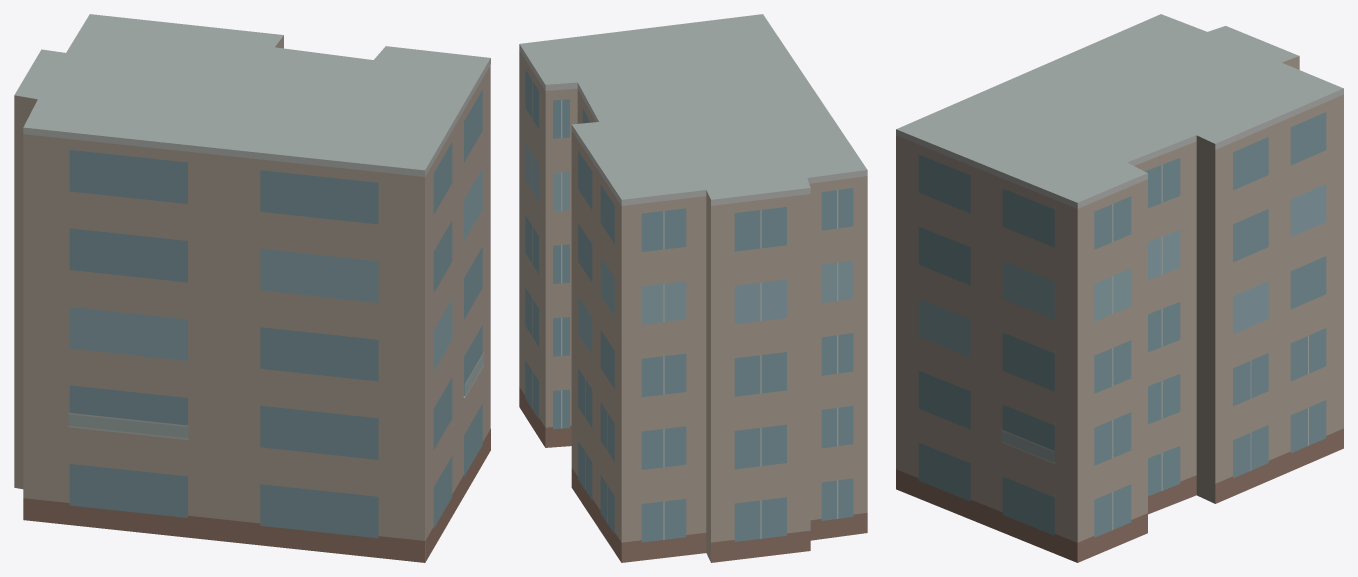
Rendered from survey-upis-32884997.glb.
3 renders of one model, left to right at view 1: azimuth 30°, elevation 25°; view 2: azimuth 150°, elevation 25°; view 3: azimuth 270°, elevation 25°, orthographic. The views are drawn at different scales.
Parts seen in each view (by area): view 1: survey-upis-32884997.tmp; view 2: survey-upis-32884997.tmp; view 3: survey-upis-32884997.tmp.
Part boxes in pixels (x1,y1,x2,y2): survey-upis-32884997.tmp: (14,14,490,562); survey-upis-32884997.tmp: (519,14,867,562); survey-upis-32884997.tmp: (896,14,1343,562).
Size of the model in its own units: 16.32 by 14.5 by 16.35.
